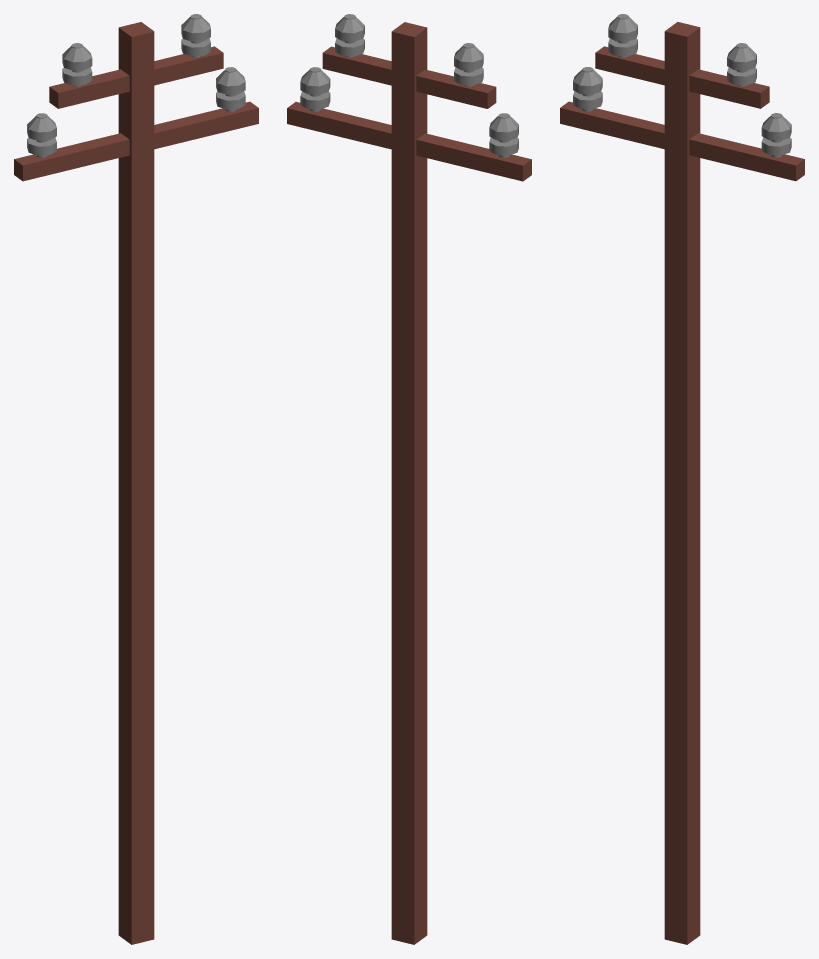
The model's file is 015 Electric_pole.FBX.
3 views of the same model, side by side, from view 1: azimuth 30°, elevation 25°; view 2: azimuth 150°, elevation 25°; view 3: azimuth 330°, elevation 25° (orthographic).
Parts seen in each view (by area): view 1: Line086; view 2: Line086; view 3: Line086.
Boxes of the visible parts, bbox=[...] form: Line086: bbox=[14, 14, 258, 944]; Line086: bbox=[287, 14, 531, 944]; Line086: bbox=[560, 14, 804, 944].
Size of the model in its own units: 156 by 572 by 17.63.
